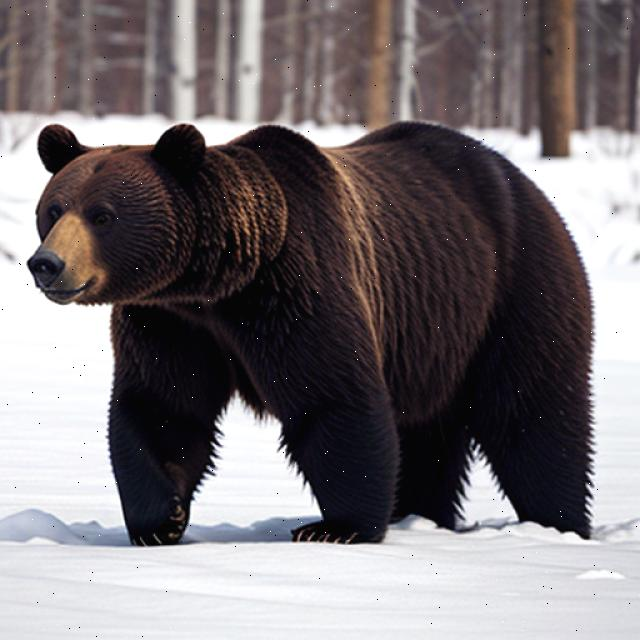bear: (0, 86, 629, 577)
